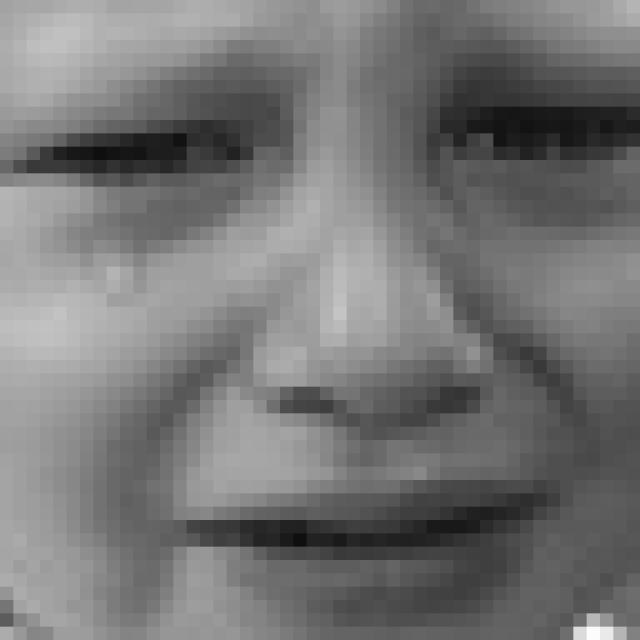sad: (25, 14, 640, 625)
